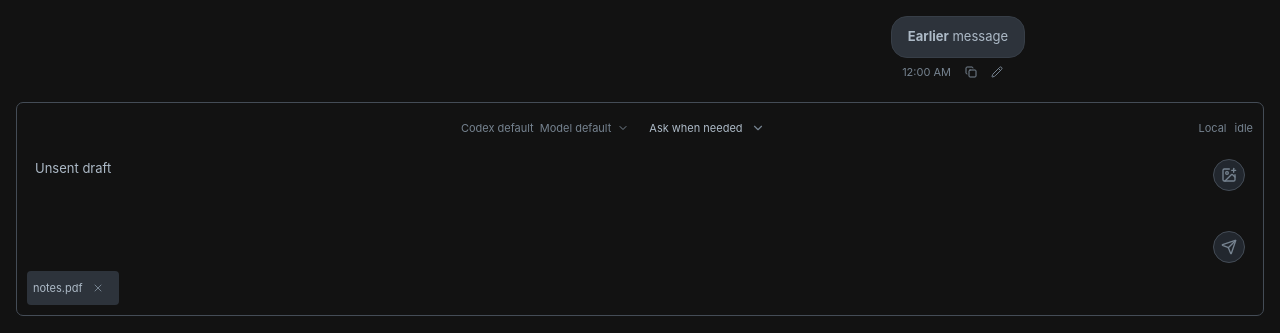
Test case: loads a user message for revision without sending and restores the previous draft on cancel
Expected: the field labelled "Unsent draft" is shown, [35,160,111,176]
Click the button named "Edit message": click(997, 72) [985,60,1009,84]
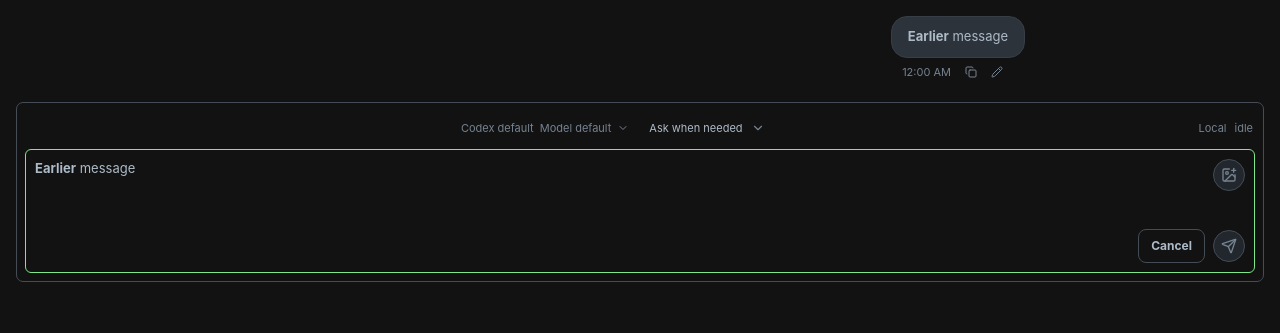
Expected: the field labelled "Earlier message" is shown, [35,160,135,176]
Expected: the text box labelled "Earlier" is shown, [35,160,76,176]
Expected: the button with class "codex-cancel-edit" is shown
Click the button with class "codex-cancel-edit": click(1172, 246) [1138,228,1205,262]
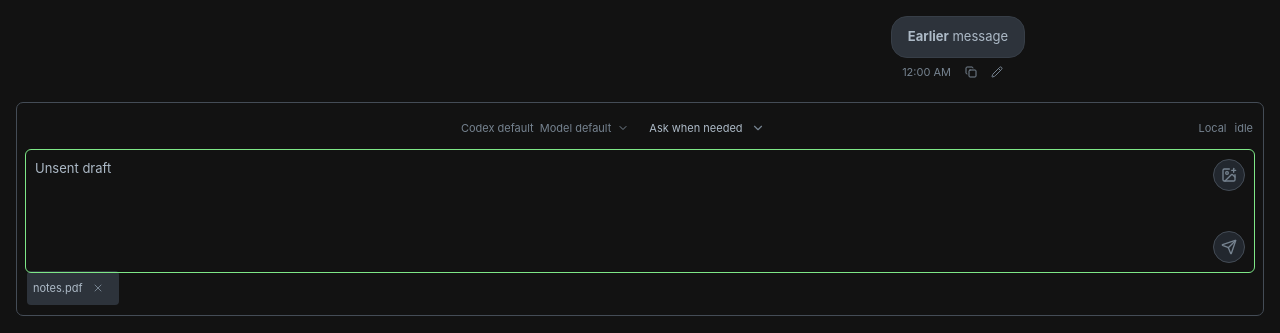
Expected: the field labelled "Unsent draft" is shown, [35,160,111,176]
Expected: the button named "Remove notes.pdf" is shown, [82,272,112,302]
